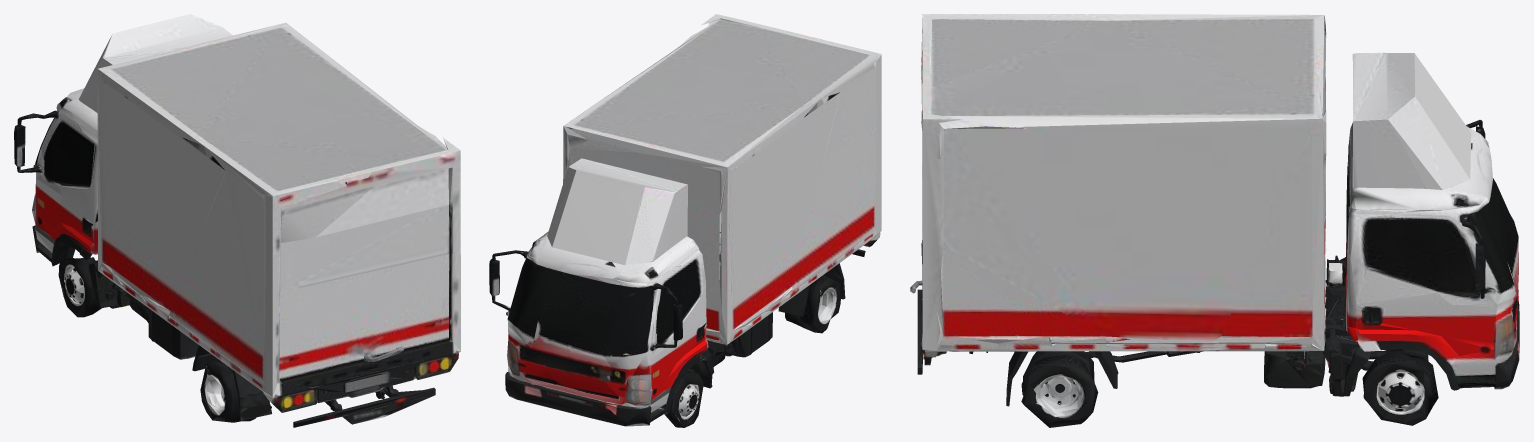
The model's file is teleopVehBoxTruck.de4b81d4.glb.
3 views of the same model, side by side, from view 1: azimuth 30°, elevation 25°; view 2: azimuth 150°, elevation 25°; view 3: azimuth 270°, elevation 25° (orthographic). The views are drawn at different scales.
Visible parts, largest first — view 1: output_unwrapped; view 2: output_unwrapped; view 3: output_unwrapped.
Boxes of the visible parts, <box> form: output_unwrapped: <box>14,14,460,427</box>; output_unwrapped: <box>489,14,881,427</box>; output_unwrapped: <box>910,14,1519,427</box>.
Bounding box in the file's own units: 0.9023 × 1.08 × 1.9.
Materials: 3 (1 with a texture image).
